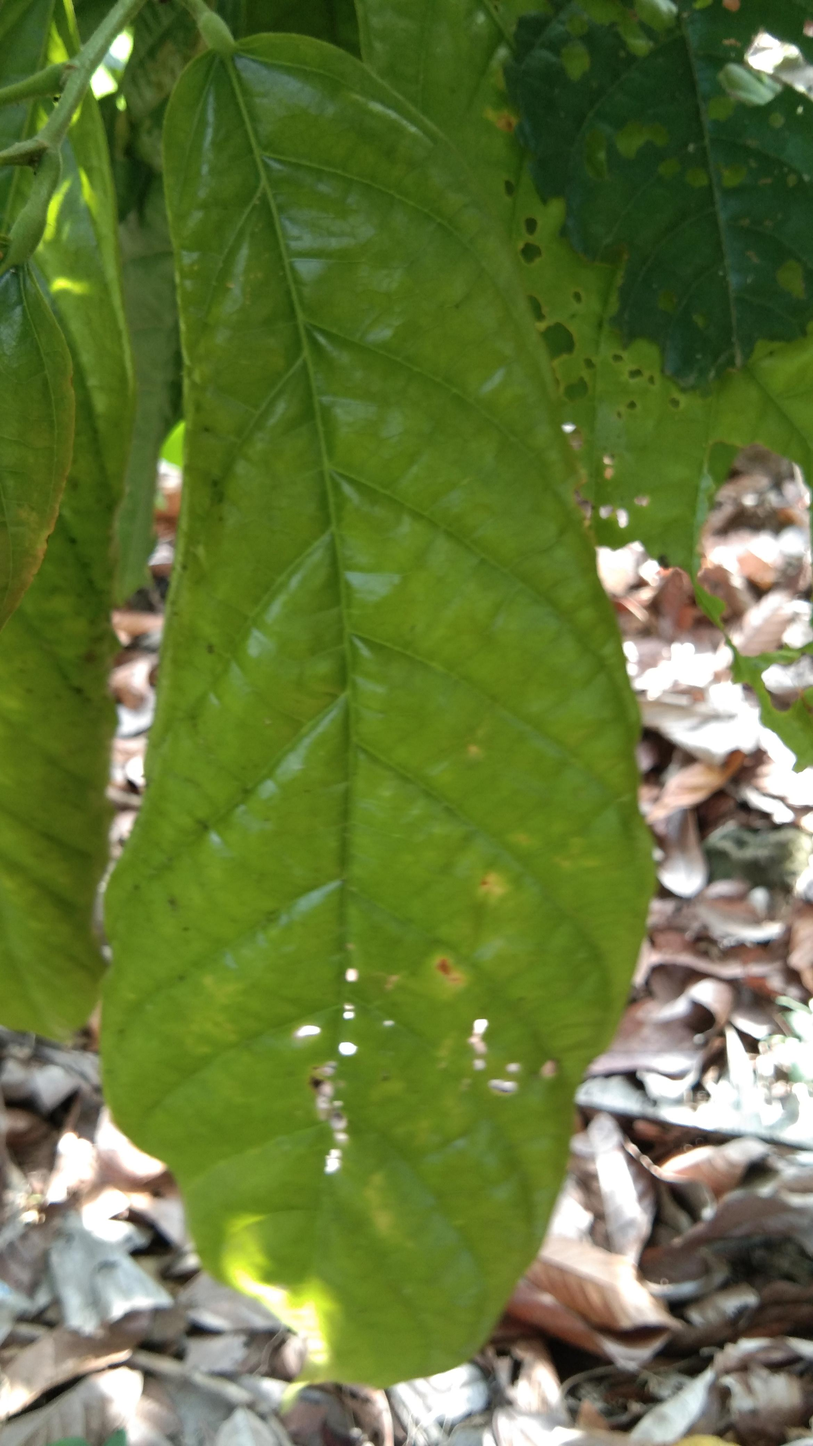deficiencia_potasio: (95, 36, 653, 1388)
